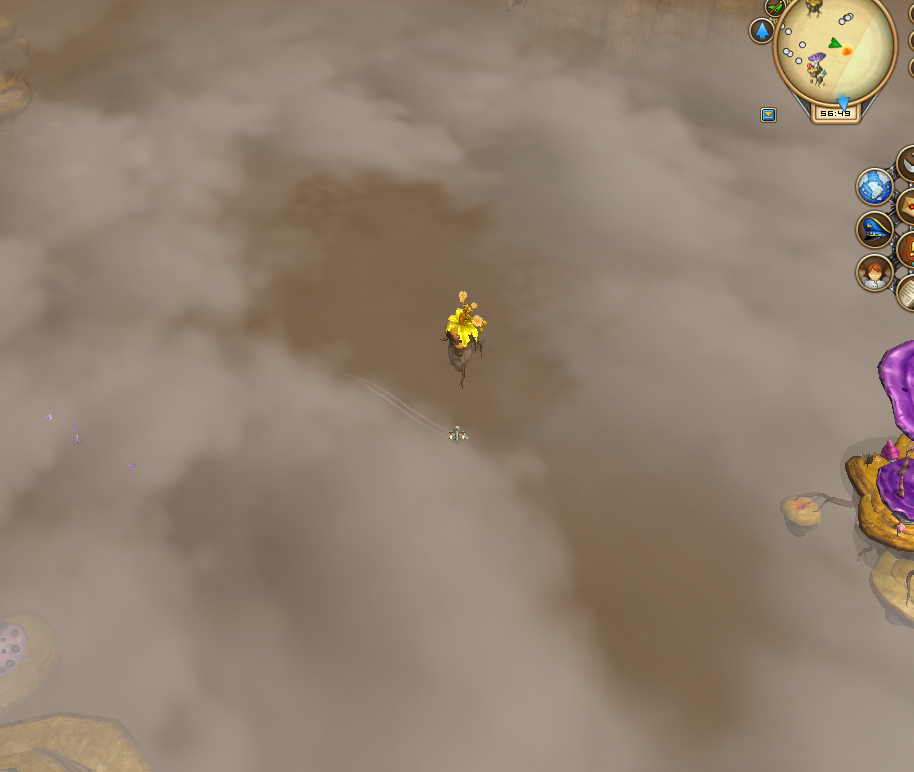dandelion-full: (431, 280, 493, 382)
